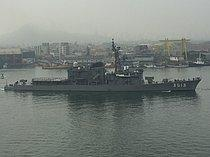MIL_Ship: (3, 37, 203, 93)
